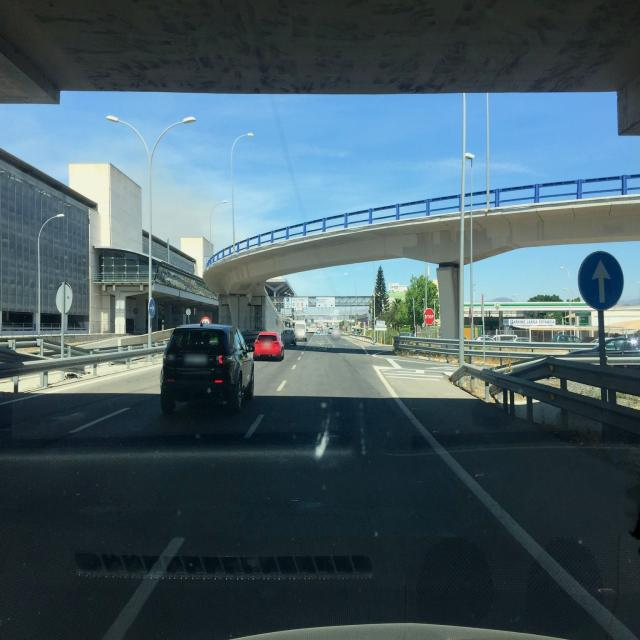car: (160, 322, 255, 414), (254, 331, 285, 361), (281, 328, 297, 347)
